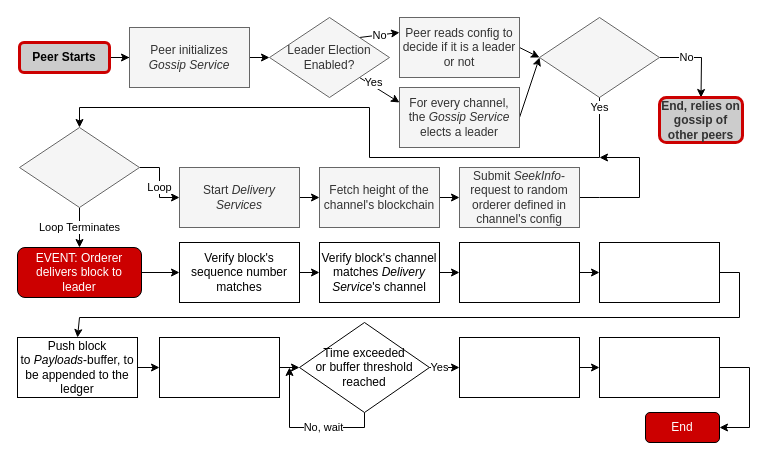
This 775x460 diagram has some shape labels left out. Here are the shapes that lost their labels. From the top down, the centre of each, then its label:
At (x=599, y=57): "Peer is a leader?".
At (x=79, y=167): "For all channels...".
At (x=519, y=272): "Recompute block's hash and verify it matches".
At (x=659, y=272): "Verify if BlockValidation -policy is verified according to channel's policy".
At (x=219, y=367): "Push block to Gossip -buffer".
At (x=519, y=367): "Randomly select a configurable amount of peers within same organization".
At (x=659, y=367): "Emit the Gossip- Buffer to the random selection of peers".
